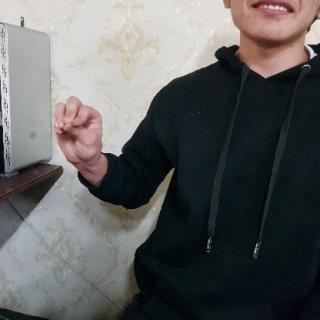HA: (43, 90, 109, 170)
